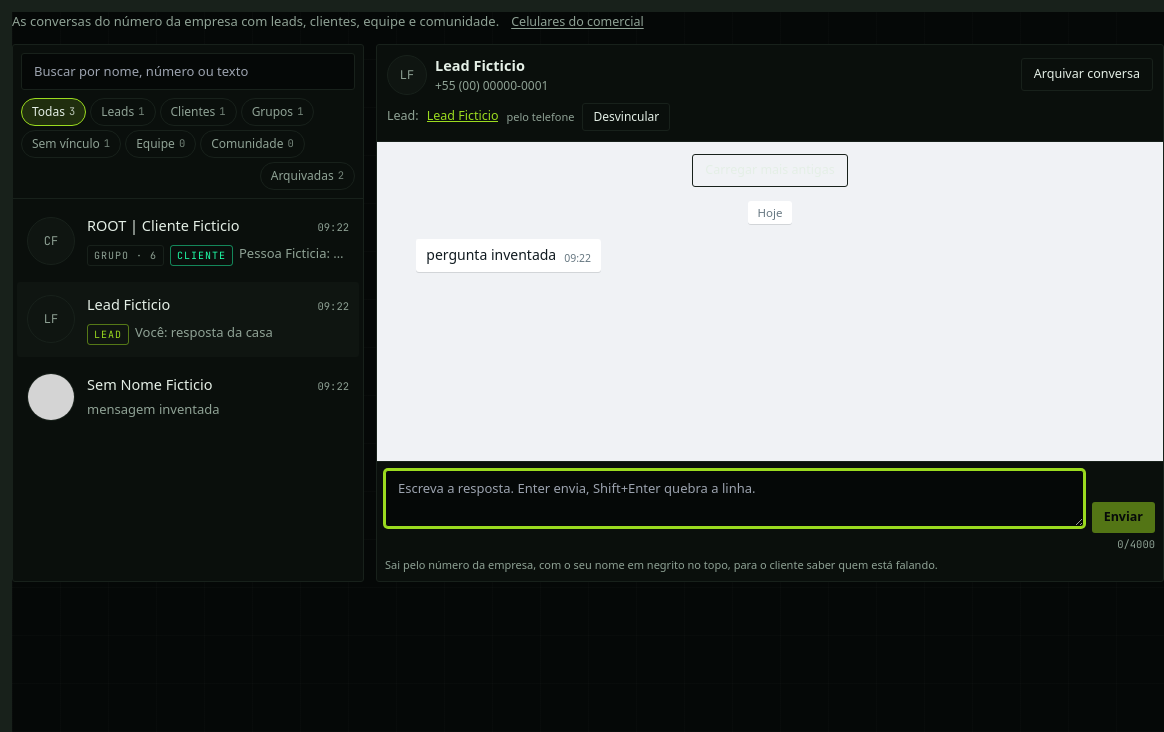
it: caixa de WhatsApp: abrir, ler, responder, arquivar › mais antigas pelo botão, com o cursor da primeira mensagem
Expected: the list item with test id "caixa-balao-m1" is shown, top-left (416, 238), bottom-right (601, 272)
Click the button with test id "caixa-mais-antigas": [770, 170] box top-left (692, 154), bottom-right (848, 187)
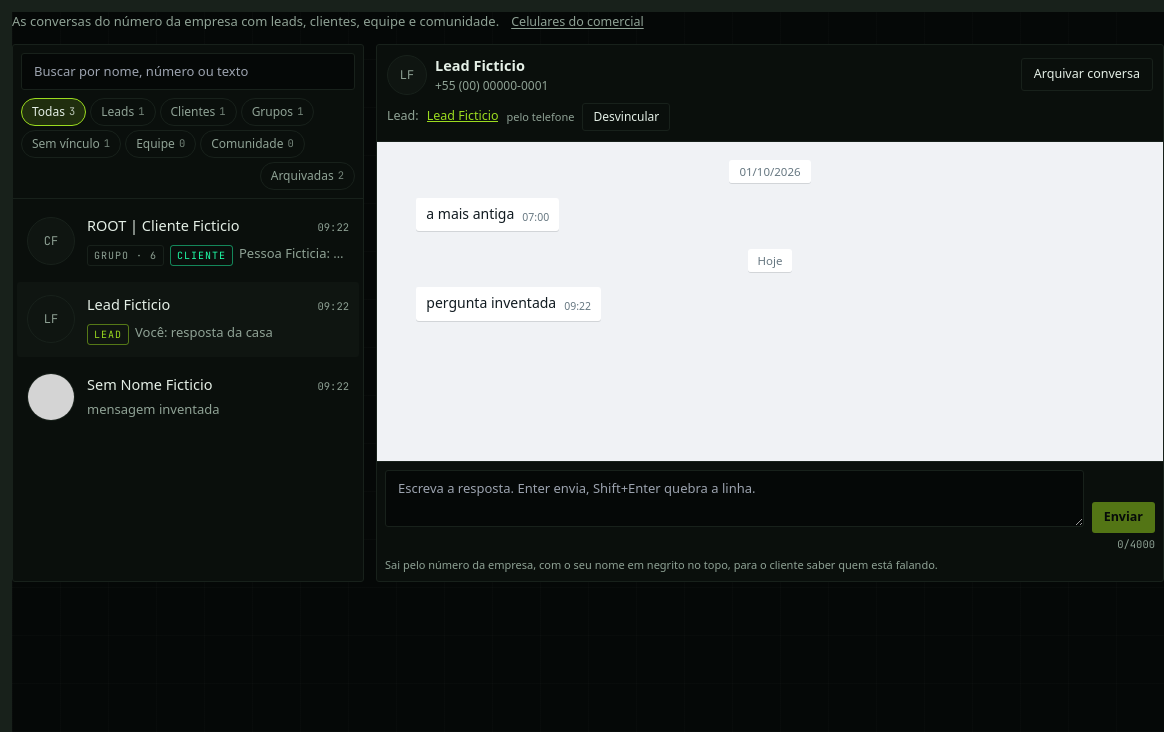
Expected: the list item with test id "caixa-balao-m0" shows "a mais antiga", top-left (426, 204), bottom-right (514, 223)
Expected: the button with test id "caixa-mais-antigas" is gone
